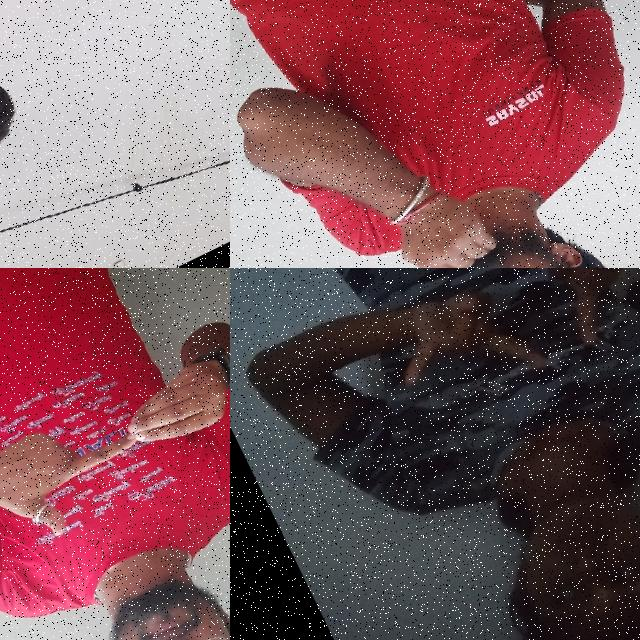Chin Flick: (371, 136, 620, 268)
Corna: (368, 268, 561, 429), (528, 268, 640, 353)
Five Fathers: (0, 330, 230, 574)
